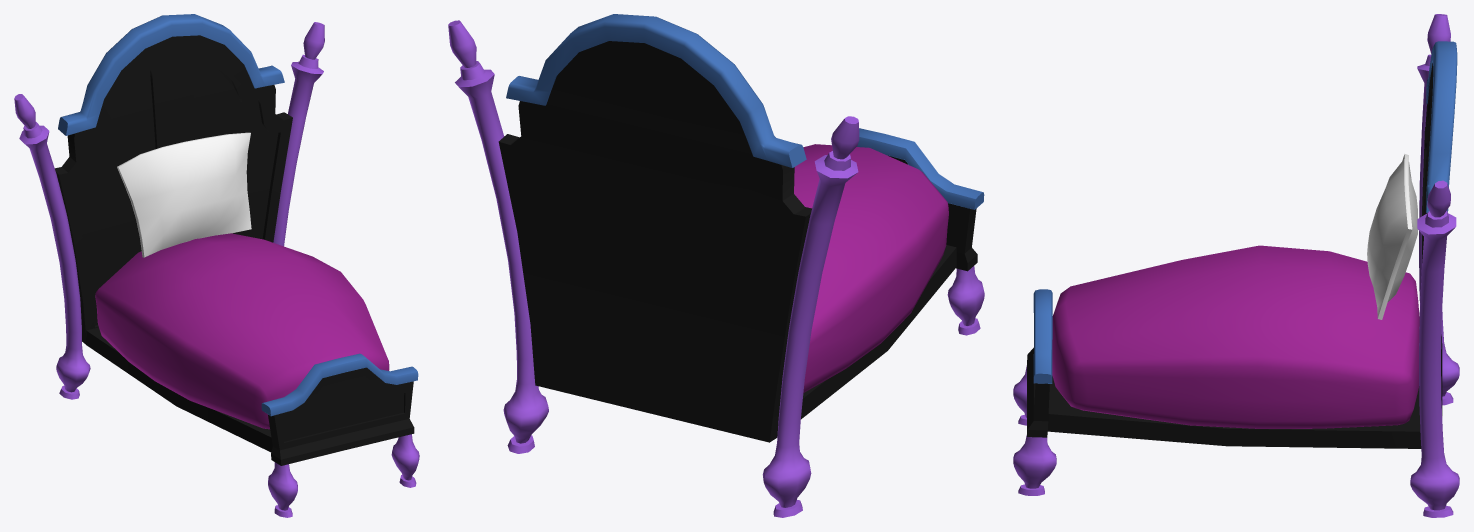
The model's file is bed_v3.FBX.
The picture shows the model from 3 angles, left to right: view 1: azimuth 30°, elevation 25°; view 2: azimuth 150°, elevation 25°; view 3: azimuth 270°, elevation 25°; orthographic projection. The views are drawn at different scales.
Parts seen in each view (by area): view 1: bed_01; view 2: bed_01; view 3: bed_01.
Part boxes in pixels (bbox=[...]): bed_01: bbox=[14, 14, 419, 517]; bed_01: bbox=[448, 14, 984, 517]; bed_01: bbox=[1013, 14, 1459, 517].
Size of the model in its own units: 78.99 by 85.59 by 85.44.
